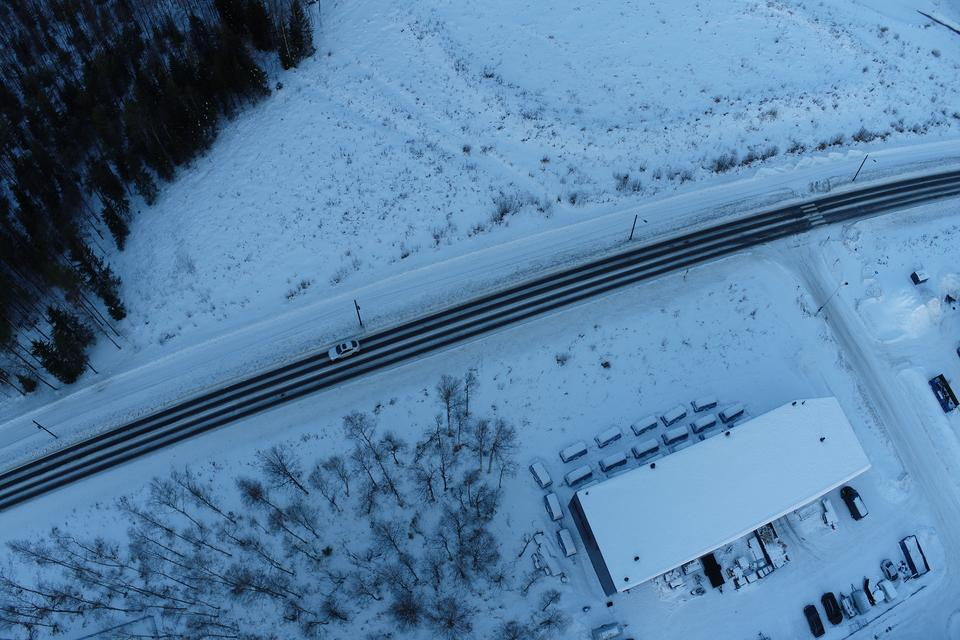intersection: (719, 174, 862, 285)
